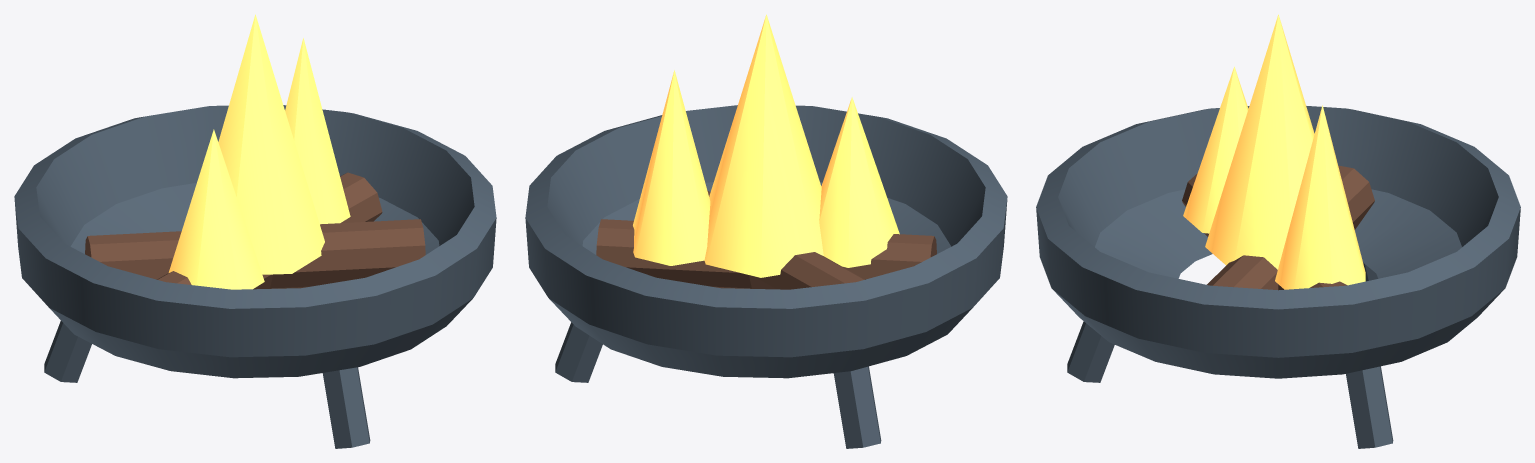
Rendered from alpine-snow-village-iron-brazier-fire-bowl-8ce373f6__19828.glb.
3 views of the same model, side by side, from view 1: azimuth 30°, elevation 25°; view 2: azimuth 150°, elevation 25°; view 3: azimuth 270°, elevation 25° (orthographic).
Visible parts, largest first — view 1: iron-brazier-fire-bowl-iron, iron-brazier-fire-bowl-amber, iron-brazier-fire-bowl-wood; view 2: iron-brazier-fire-bowl-iron, iron-brazier-fire-bowl-amber, iron-brazier-fire-bowl-wood; view 3: iron-brazier-fire-bowl-iron, iron-brazier-fire-bowl-amber, iron-brazier-fire-bowl-wood.
Part boxes in pixels (left/top/right/bottom): iron-brazier-fire-bowl-iron: left=14, top=105, right=496, bottom=448; iron-brazier-fire-bowl-amber: left=168, top=14, right=350, bottom=289; iron-brazier-fire-bowl-wood: left=85, top=172, right=425, bottom=289; iron-brazier-fire-bowl-iron: left=525, top=105, right=1007, bottom=448; iron-brazier-fire-bowl-amber: left=633, top=14, right=899, bottom=277; iron-brazier-fire-bowl-wood: left=596, top=190, right=936, bottom=289; iron-brazier-fire-bowl-iron: left=1036, top=106, right=1520, bottom=448; iron-brazier-fire-bowl-amber: left=1183, top=14, right=1365, bottom=289; iron-brazier-fire-bowl-wood: left=1182, top=165, right=1374, bottom=290.
Bounding box in the file's own units: 1.32 × 1.1 × 1.32.
